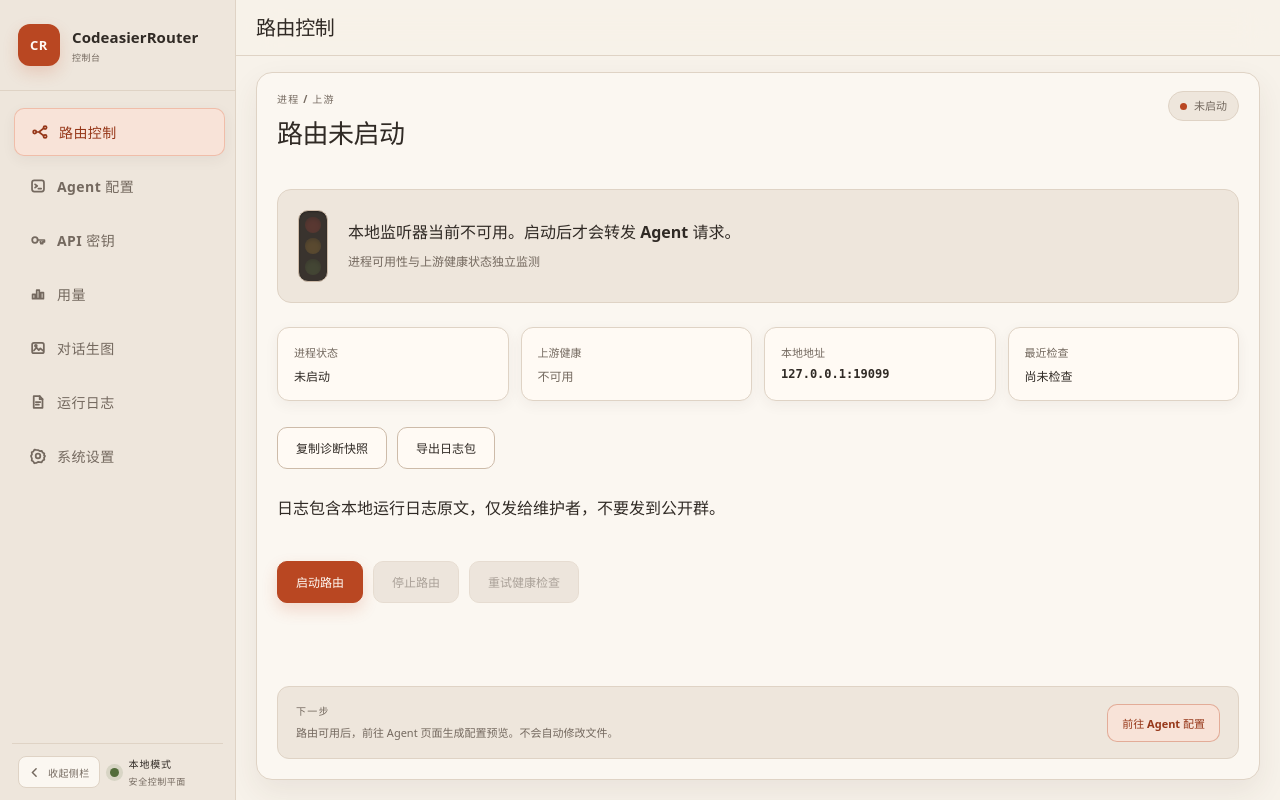
Test: App navigation › opens API key management from the main navigation
This screenshot has width=1280, height=800.
Click the button "API 密钥" at (118, 240), box [12,216,223,264]
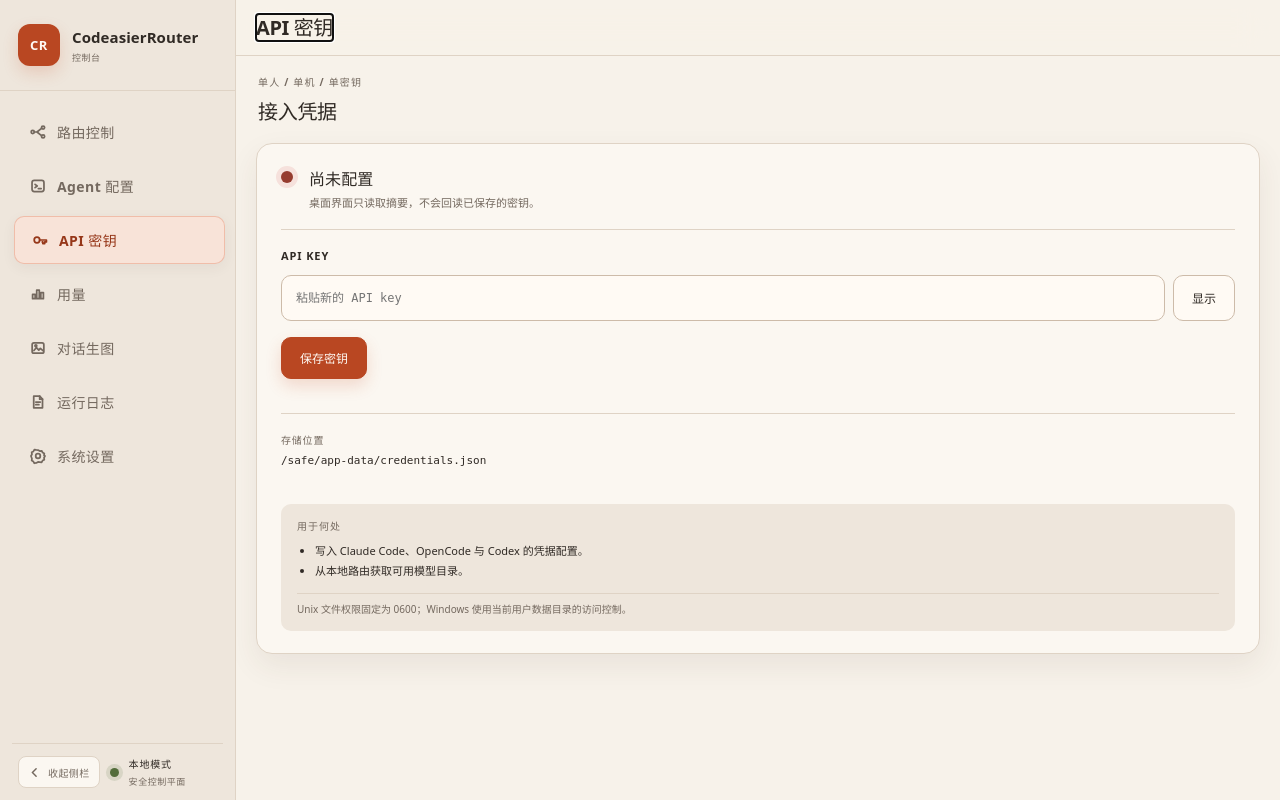
Result: the heading "API 密钥" is shown at [256,16,333,39]
Result: the text "尚未配置" is shown at [309,168,373,190]
